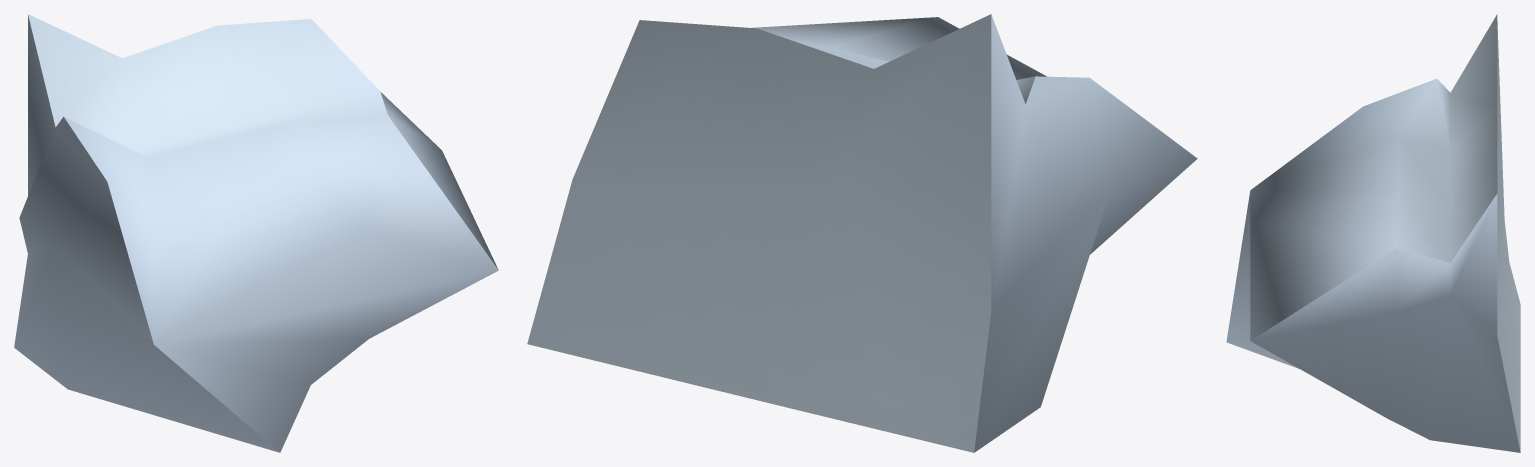
File: SmallIce_H.fbx
The picture shows the model from 3 angles, left to right: view 1: azimuth 30°, elevation 25°; view 2: azimuth 150°, elevation 25°; view 3: azimuth 270°, elevation 25°; orthographic projection. The views are drawn at different scales.
Parts seen in each view (by area): view 1: pCube1; view 2: pCube1; view 3: pCube1.
Part boxes in pixels (left/top/right/bottom): pCube1: left=14, top=14, right=498, bottom=452; pCube1: left=527, top=14, right=1197, bottom=452; pCube1: left=1226, top=14, right=1520, bottom=452.
Size of the model in its own units: 10.39 by 8.66 by 7.9.
1 material, 1 textured.
